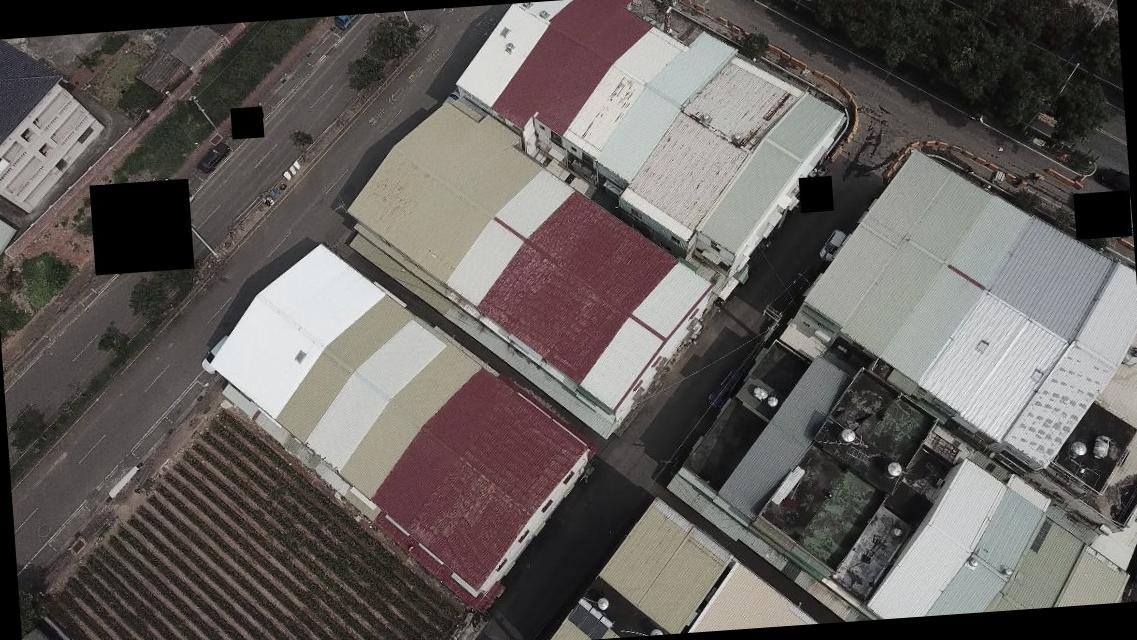vehicle: (706, 364, 744, 408), (193, 140, 232, 176), (197, 336, 228, 376), (816, 228, 846, 262), (1096, 167, 1128, 196)
